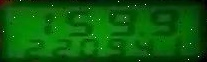-: (136, 30, 144, 36)
0: (77, 37, 99, 57)
1: (41, 11, 53, 35), (170, 38, 182, 56)
2: (48, 37, 70, 57), (22, 37, 44, 57)
4: (132, 38, 154, 55)
5: (63, 9, 91, 36)
9: (147, 7, 178, 35), (105, 8, 136, 36), (104, 38, 125, 56)
